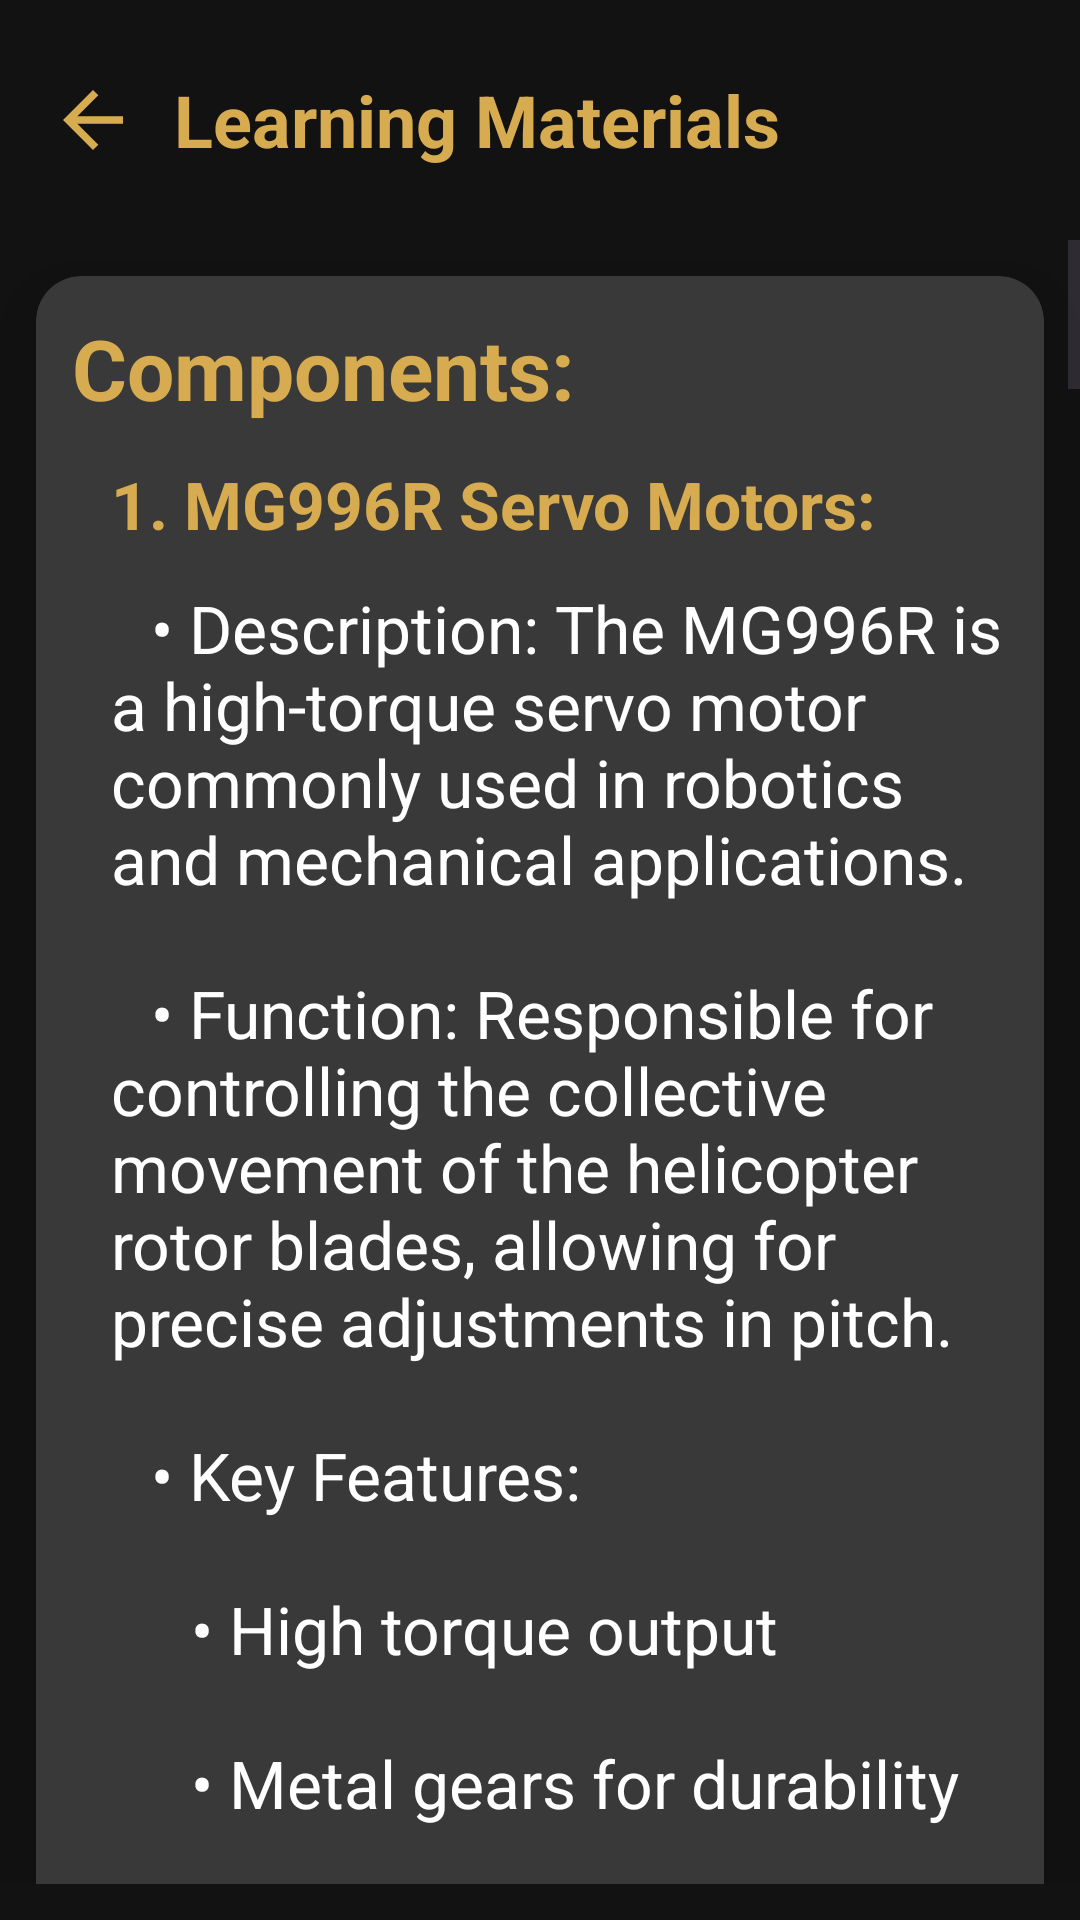

Where icons sit on this 1080 × 1920 app screen, as rect(x1, y1, x2, y2):
arrow back: rect(63, 90, 123, 150)
